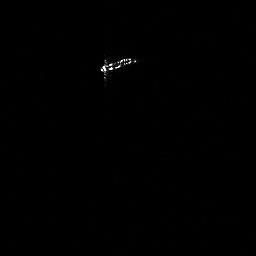ship: (98, 55, 138, 82)
